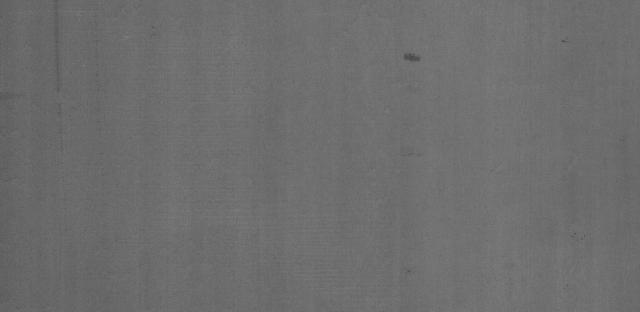inclusion: (400, 40, 433, 68)
